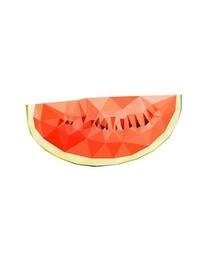watermelon: (23, 93, 184, 167)
